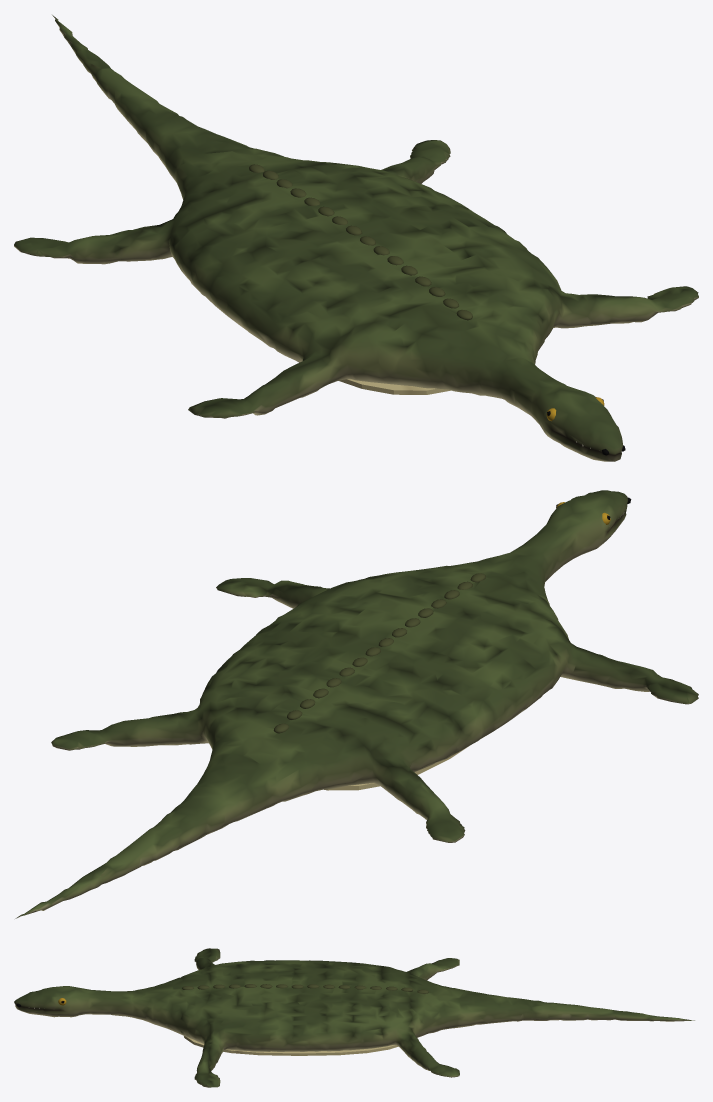
The model's file is Odontochelys.fbx.
3 renders of one model, top to bottom at view 1: azimuth 30°, elevation 25°; view 2: azimuth 150°, elevation 25°; view 3: azimuth 270°, elevation 25°, orthographic. The views are drawn at different scales.
Parts seen in each view (by area): view 1: Odontochelys; view 2: Odontochelys; view 3: Odontochelys.
Boxes of the visible parts, x1=… form: Odontochelys: x1=14, y1=15, x2=698, y2=461; Odontochelys: x1=15, y1=490, x2=698, y2=918; Odontochelys: x1=14, y1=948, x2=694, y2=1087.
Size of the model in its own units: 0.9443 by 0.1331 by 1.97.
